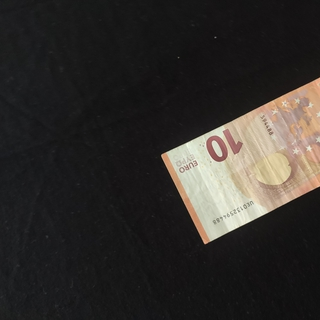10EUROBack: (160, 74, 320, 244)
